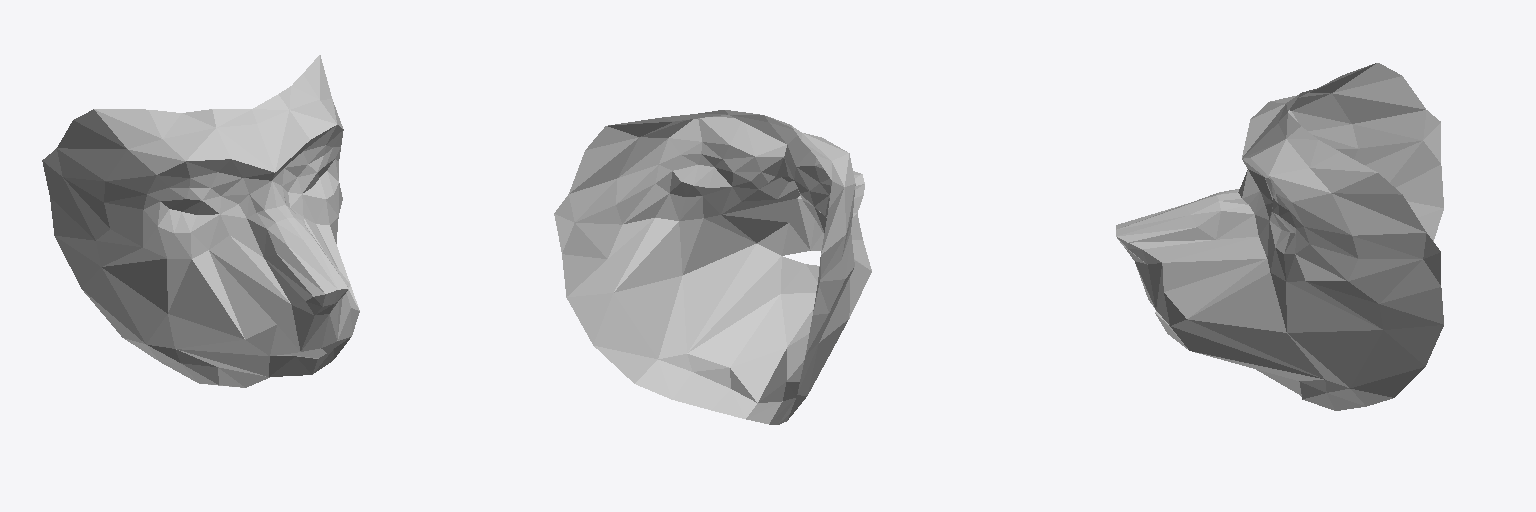
File: HERO2.OBJ
The picture shows the model from 3 angles: view 1: azimuth 30°, elevation 25°; view 2: azimuth 150°, elevation 25°; view 3: azimuth 270°, elevation 25°; orthographic projection.
Visible parts, largest first — view 1: hero2; view 2: hero2; view 3: hero2.
Part boxes in pixels (left/top/right/bottom): hero2: left=42, top=55, right=359, bottom=387; hero2: left=554, top=110, right=871, bottom=424; hero2: left=1116, top=63, right=1443, bottom=410.
Bounding box in the file's own units: 6.83 × 7.21 × 7.29.